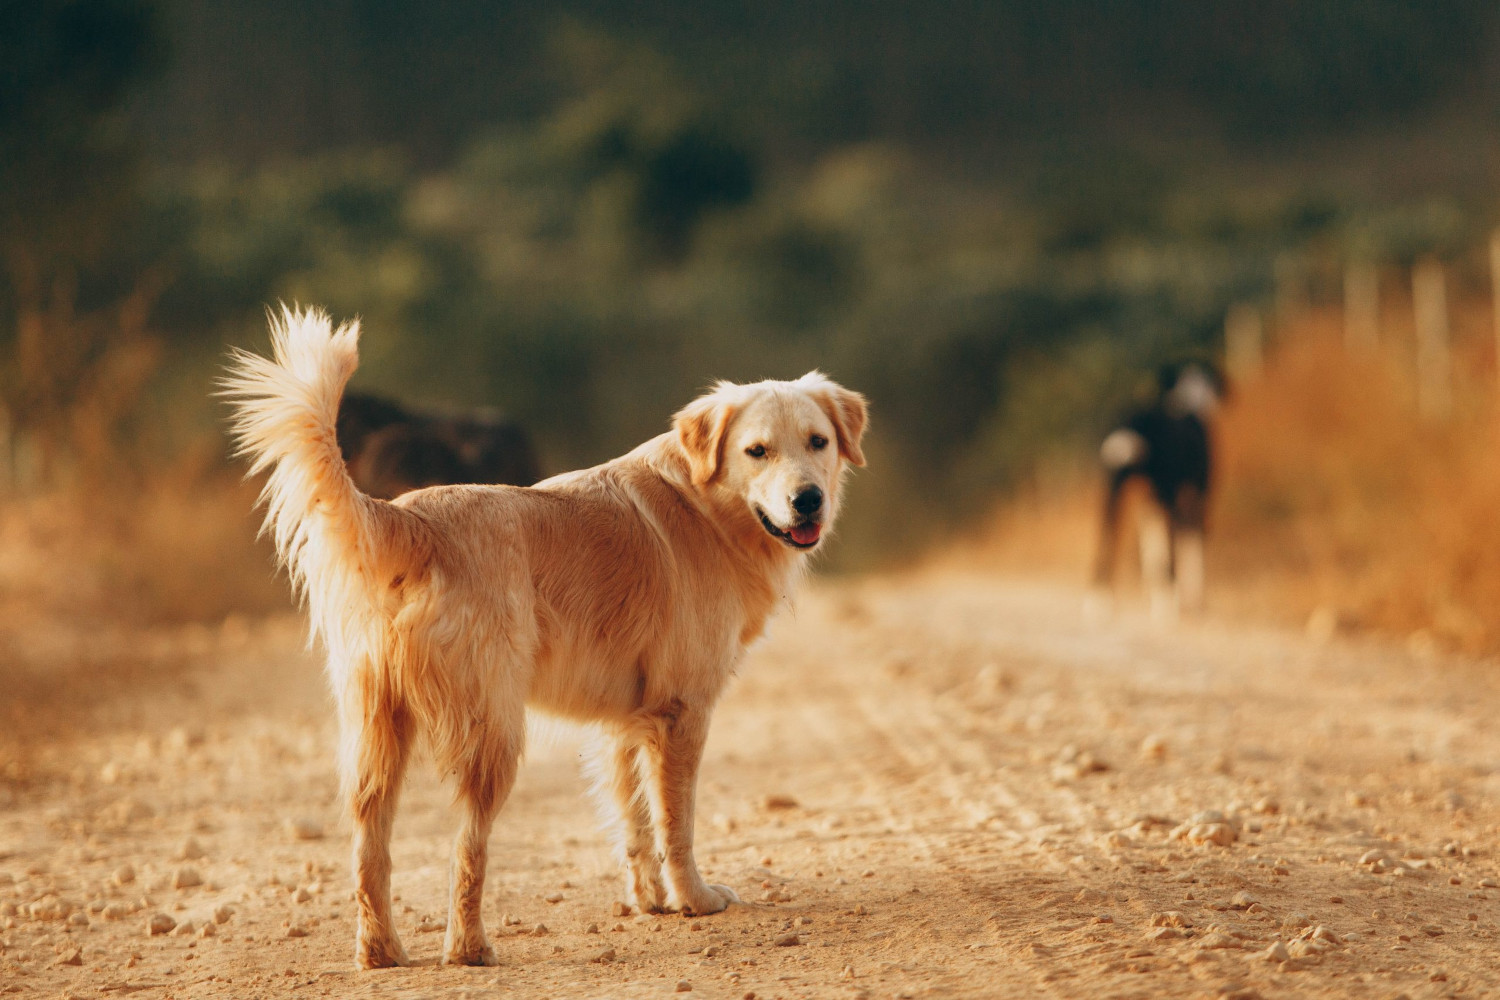dog: (213, 294, 871, 971)
